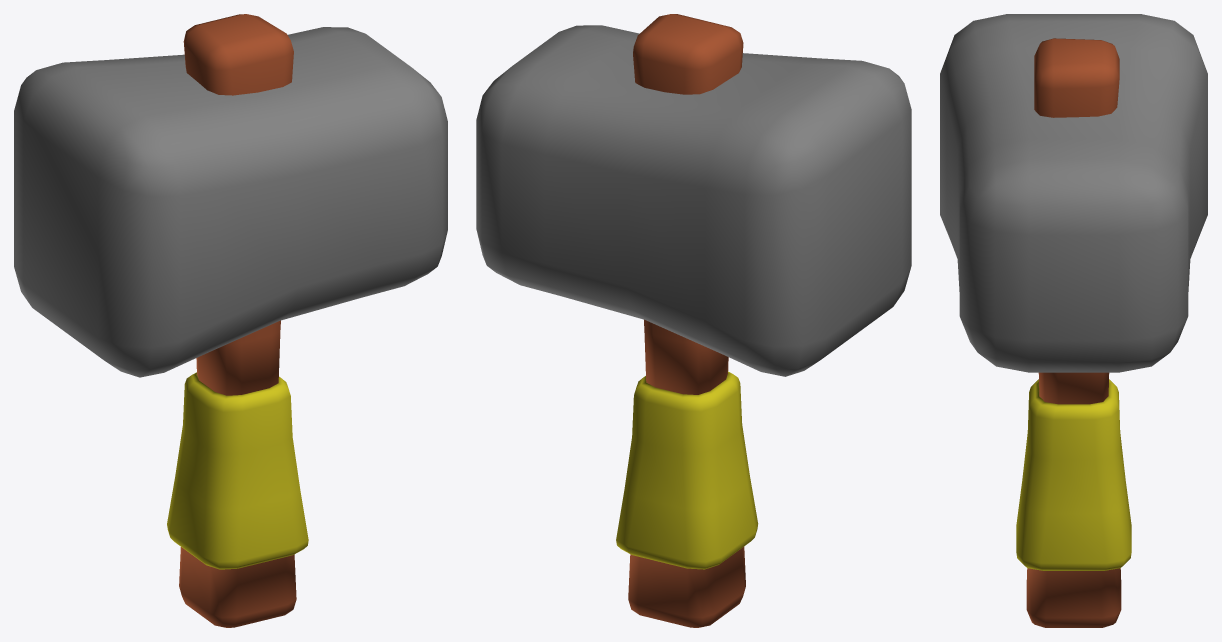
File: Hammer.fbx
3 renders of one model, left to right at view 1: azimuth 30°, elevation 25°; view 2: azimuth 150°, elevation 25°; view 3: azimuth 270°, elevation 25°, orthographic. The views are drawn at different scales.
Visible parts, largest first — view 1: Hammer; view 2: Hammer; view 3: Hammer.
Boxes of the visible parts, x1,y1,x2,y2 form: Hammer: (14, 14, 447, 627); Hammer: (476, 14, 911, 627); Hammer: (940, 14, 1207, 627).
Bounding box in the file's own units: 67.12 × 105 × 45.31.
